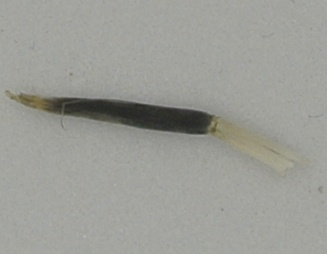เมล้ดปลายพู่กัน: (5, 86, 309, 180)
